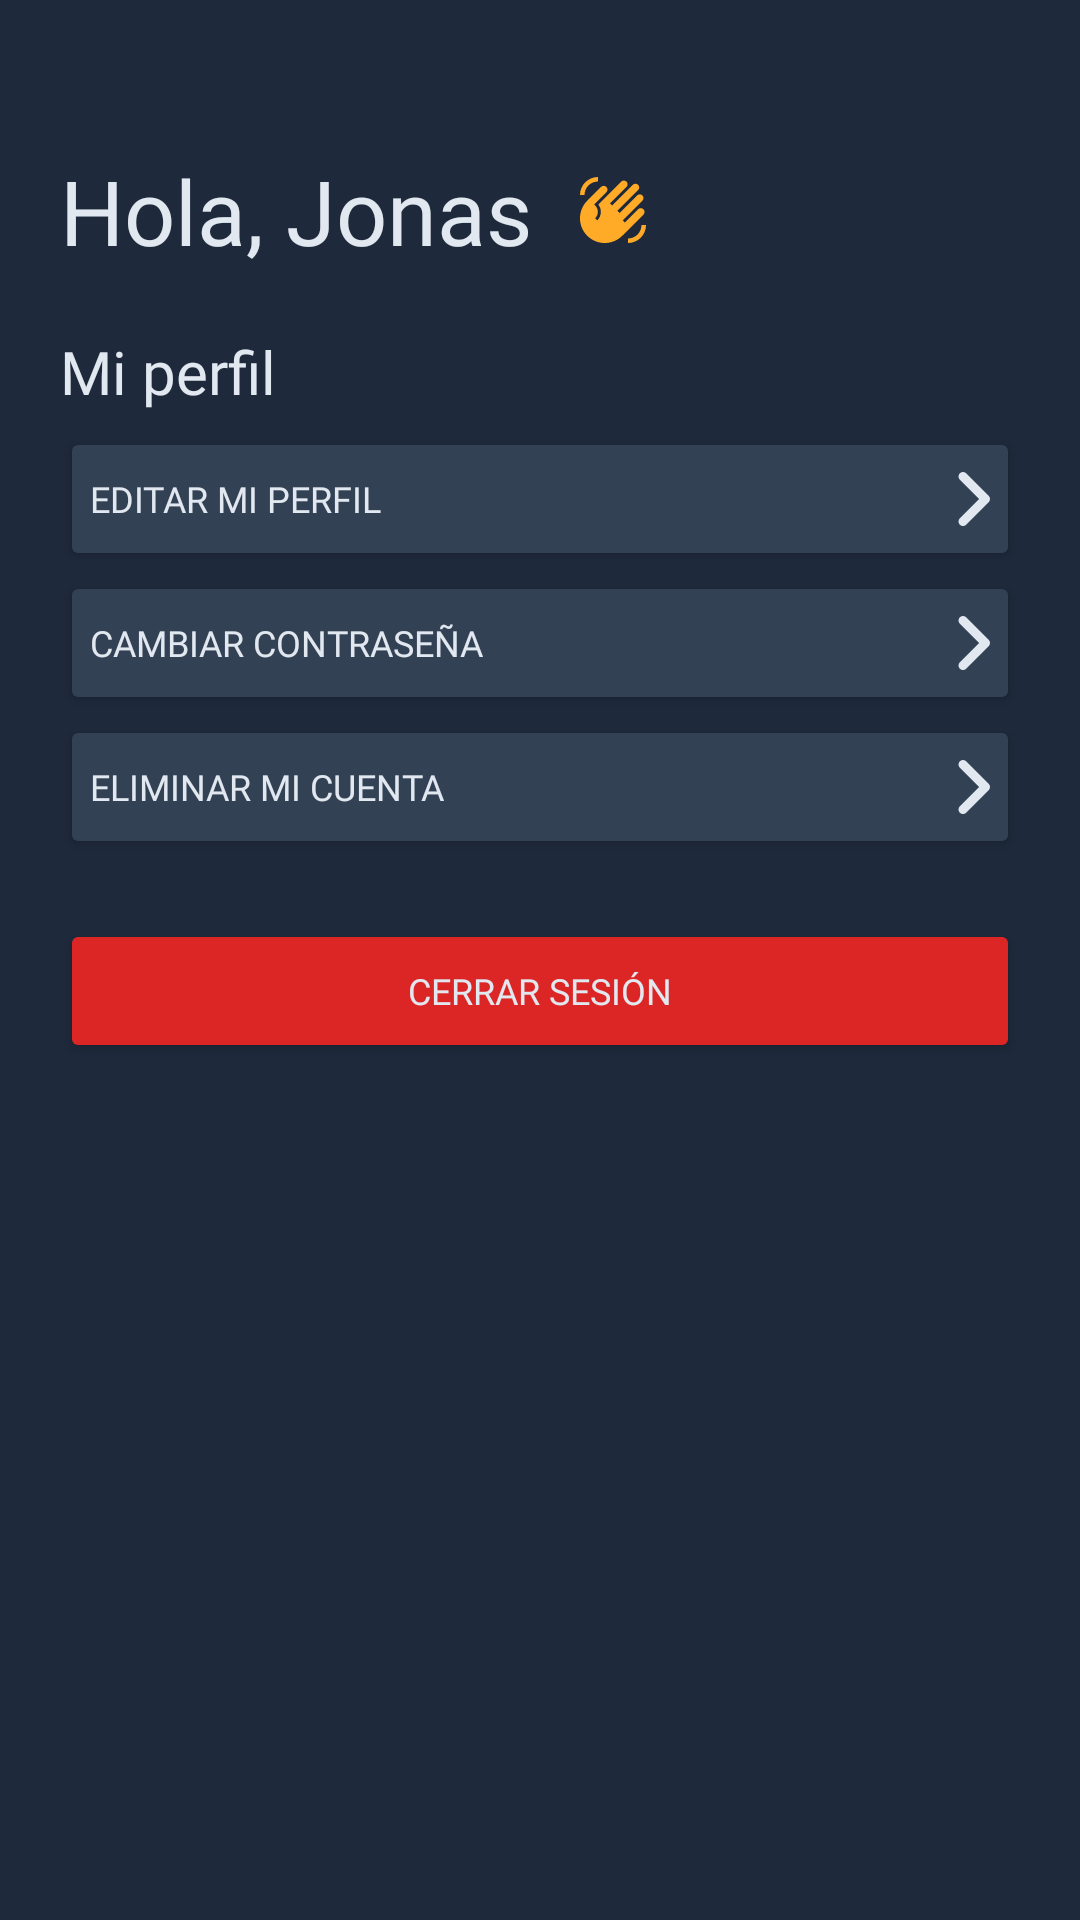

Screen size 1080 x 1920. Icon name, then its box in pixels as {"x1": x1, "y1": y1, "x2": x2, "y2": y2}:
waving hand: {"x1": 580, "y1": 177, "x2": 646, "y2": 243}
